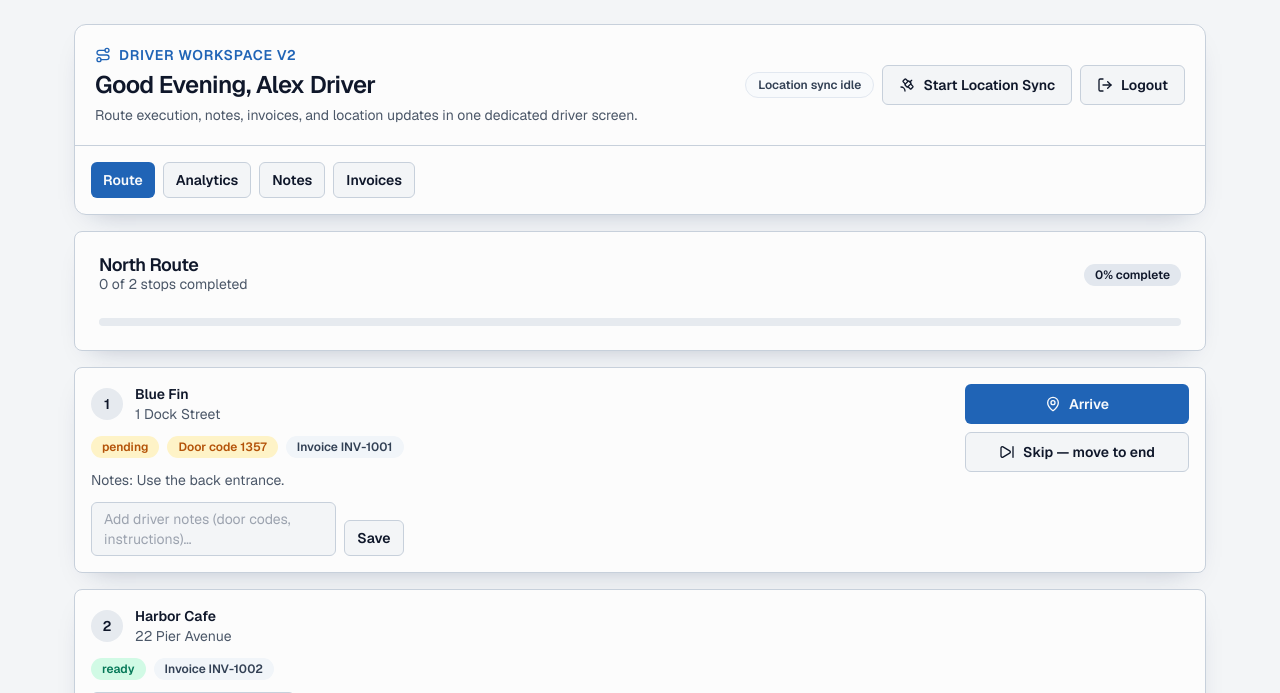
Test: DriverPage › starts and stops location sync after a successful geolocation update
Expected: the heading "North Route" is shown, [99,253,198,276]
Click the button "Start Location Sync". click: click(977, 85)
box: [882,65,1072,105]
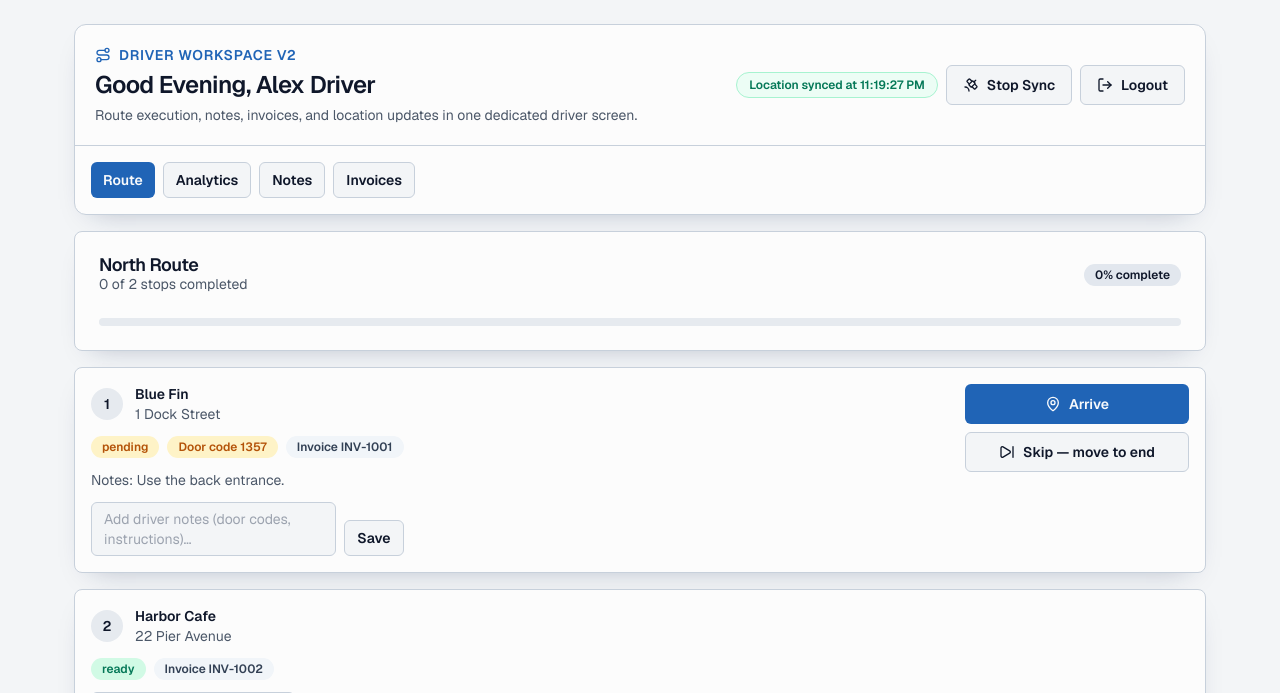
Expected: the text "Location synced at 11:19:27 PM" is shown, [736,72,938,98]
Click the button "Stop Sync". click: click(1009, 85)
box: [946,65,1072,105]
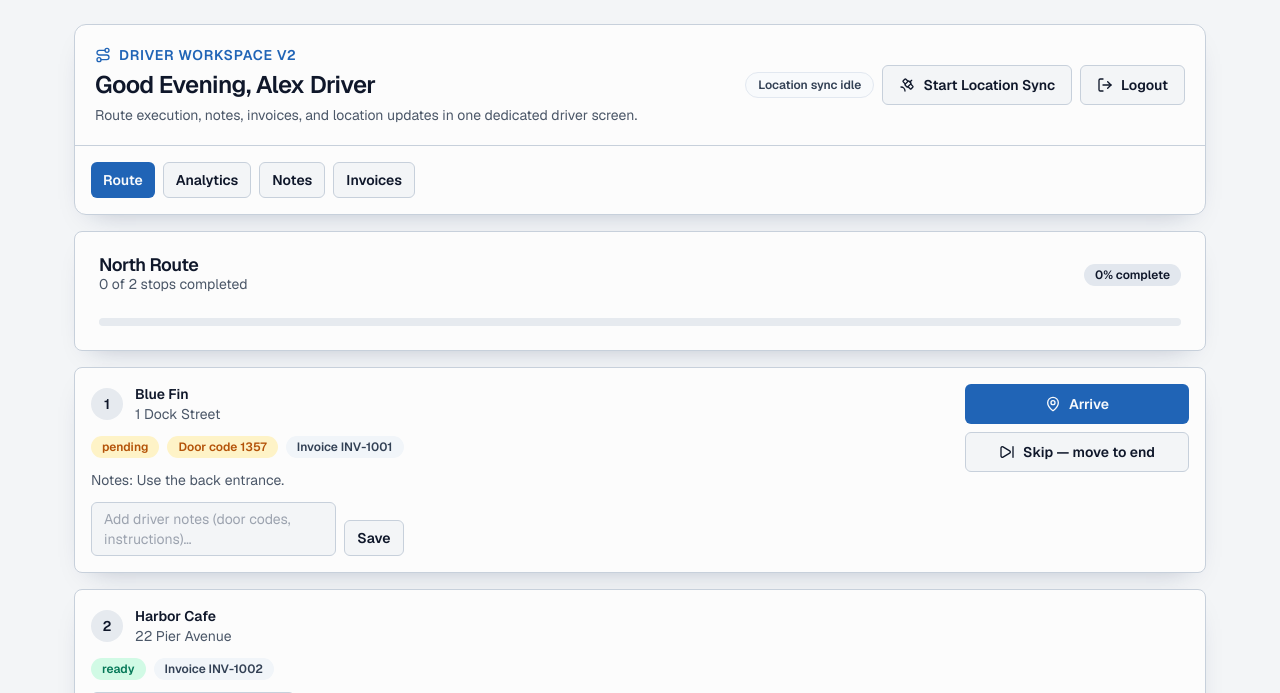
Expected: the text "Location sync idle" is shown, [745,72,874,98]
